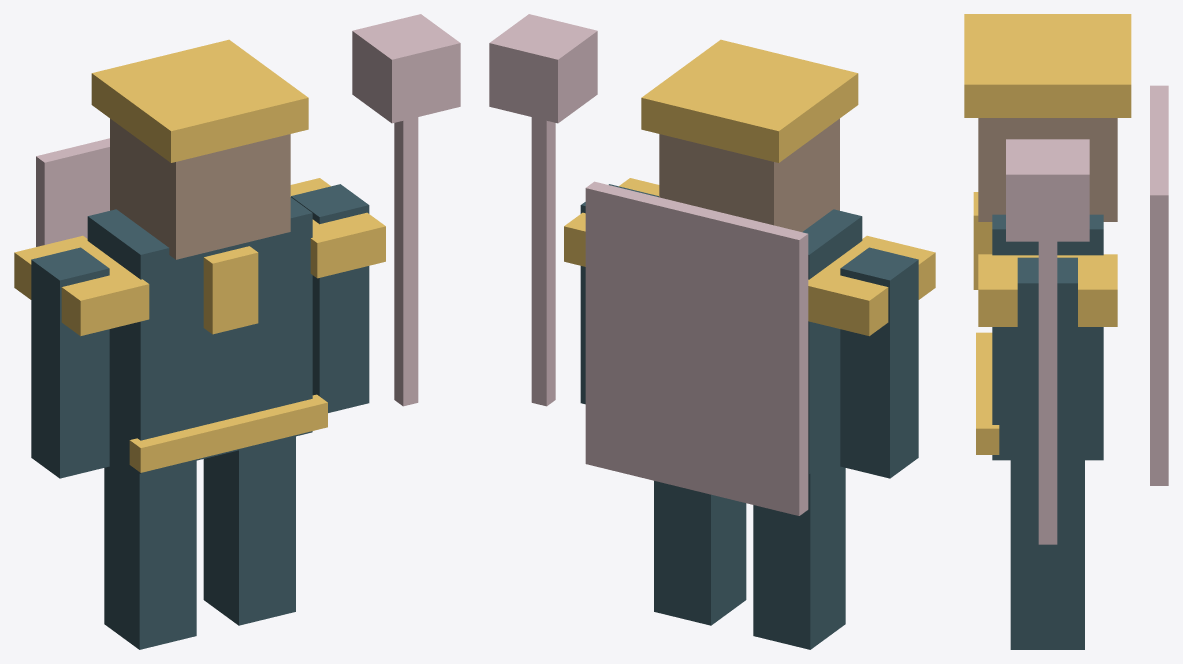
File: 09_tovin_echohand_ranger_of_echo.glb
The picture shows the model from 3 angles, left to right: view 1: azimuth 30°, elevation 25°; view 2: azimuth 150°, elevation 25°; view 3: azimuth 270°, elevation 25°; orthographic projection. The views are drawn at different scales.
Visible parts, largest first — view 1: Tovin Echohand, Ranger of Echo; view 2: Tovin Echohand, Ranger of Echo; view 3: Tovin Echohand, Ranger of Echo.
Boxes of the visible parts, box(x1,y1,x2,y2) form: Tovin Echohand, Ranger of Echo: box(14, 14, 460, 649); Tovin Echohand, Ranger of Echo: box(489, 14, 935, 649); Tovin Echohand, Ranger of Echo: box(964, 14, 1168, 649).
Bounding box in the file's own units: 1.1 × 1.42 × 0.4674.
